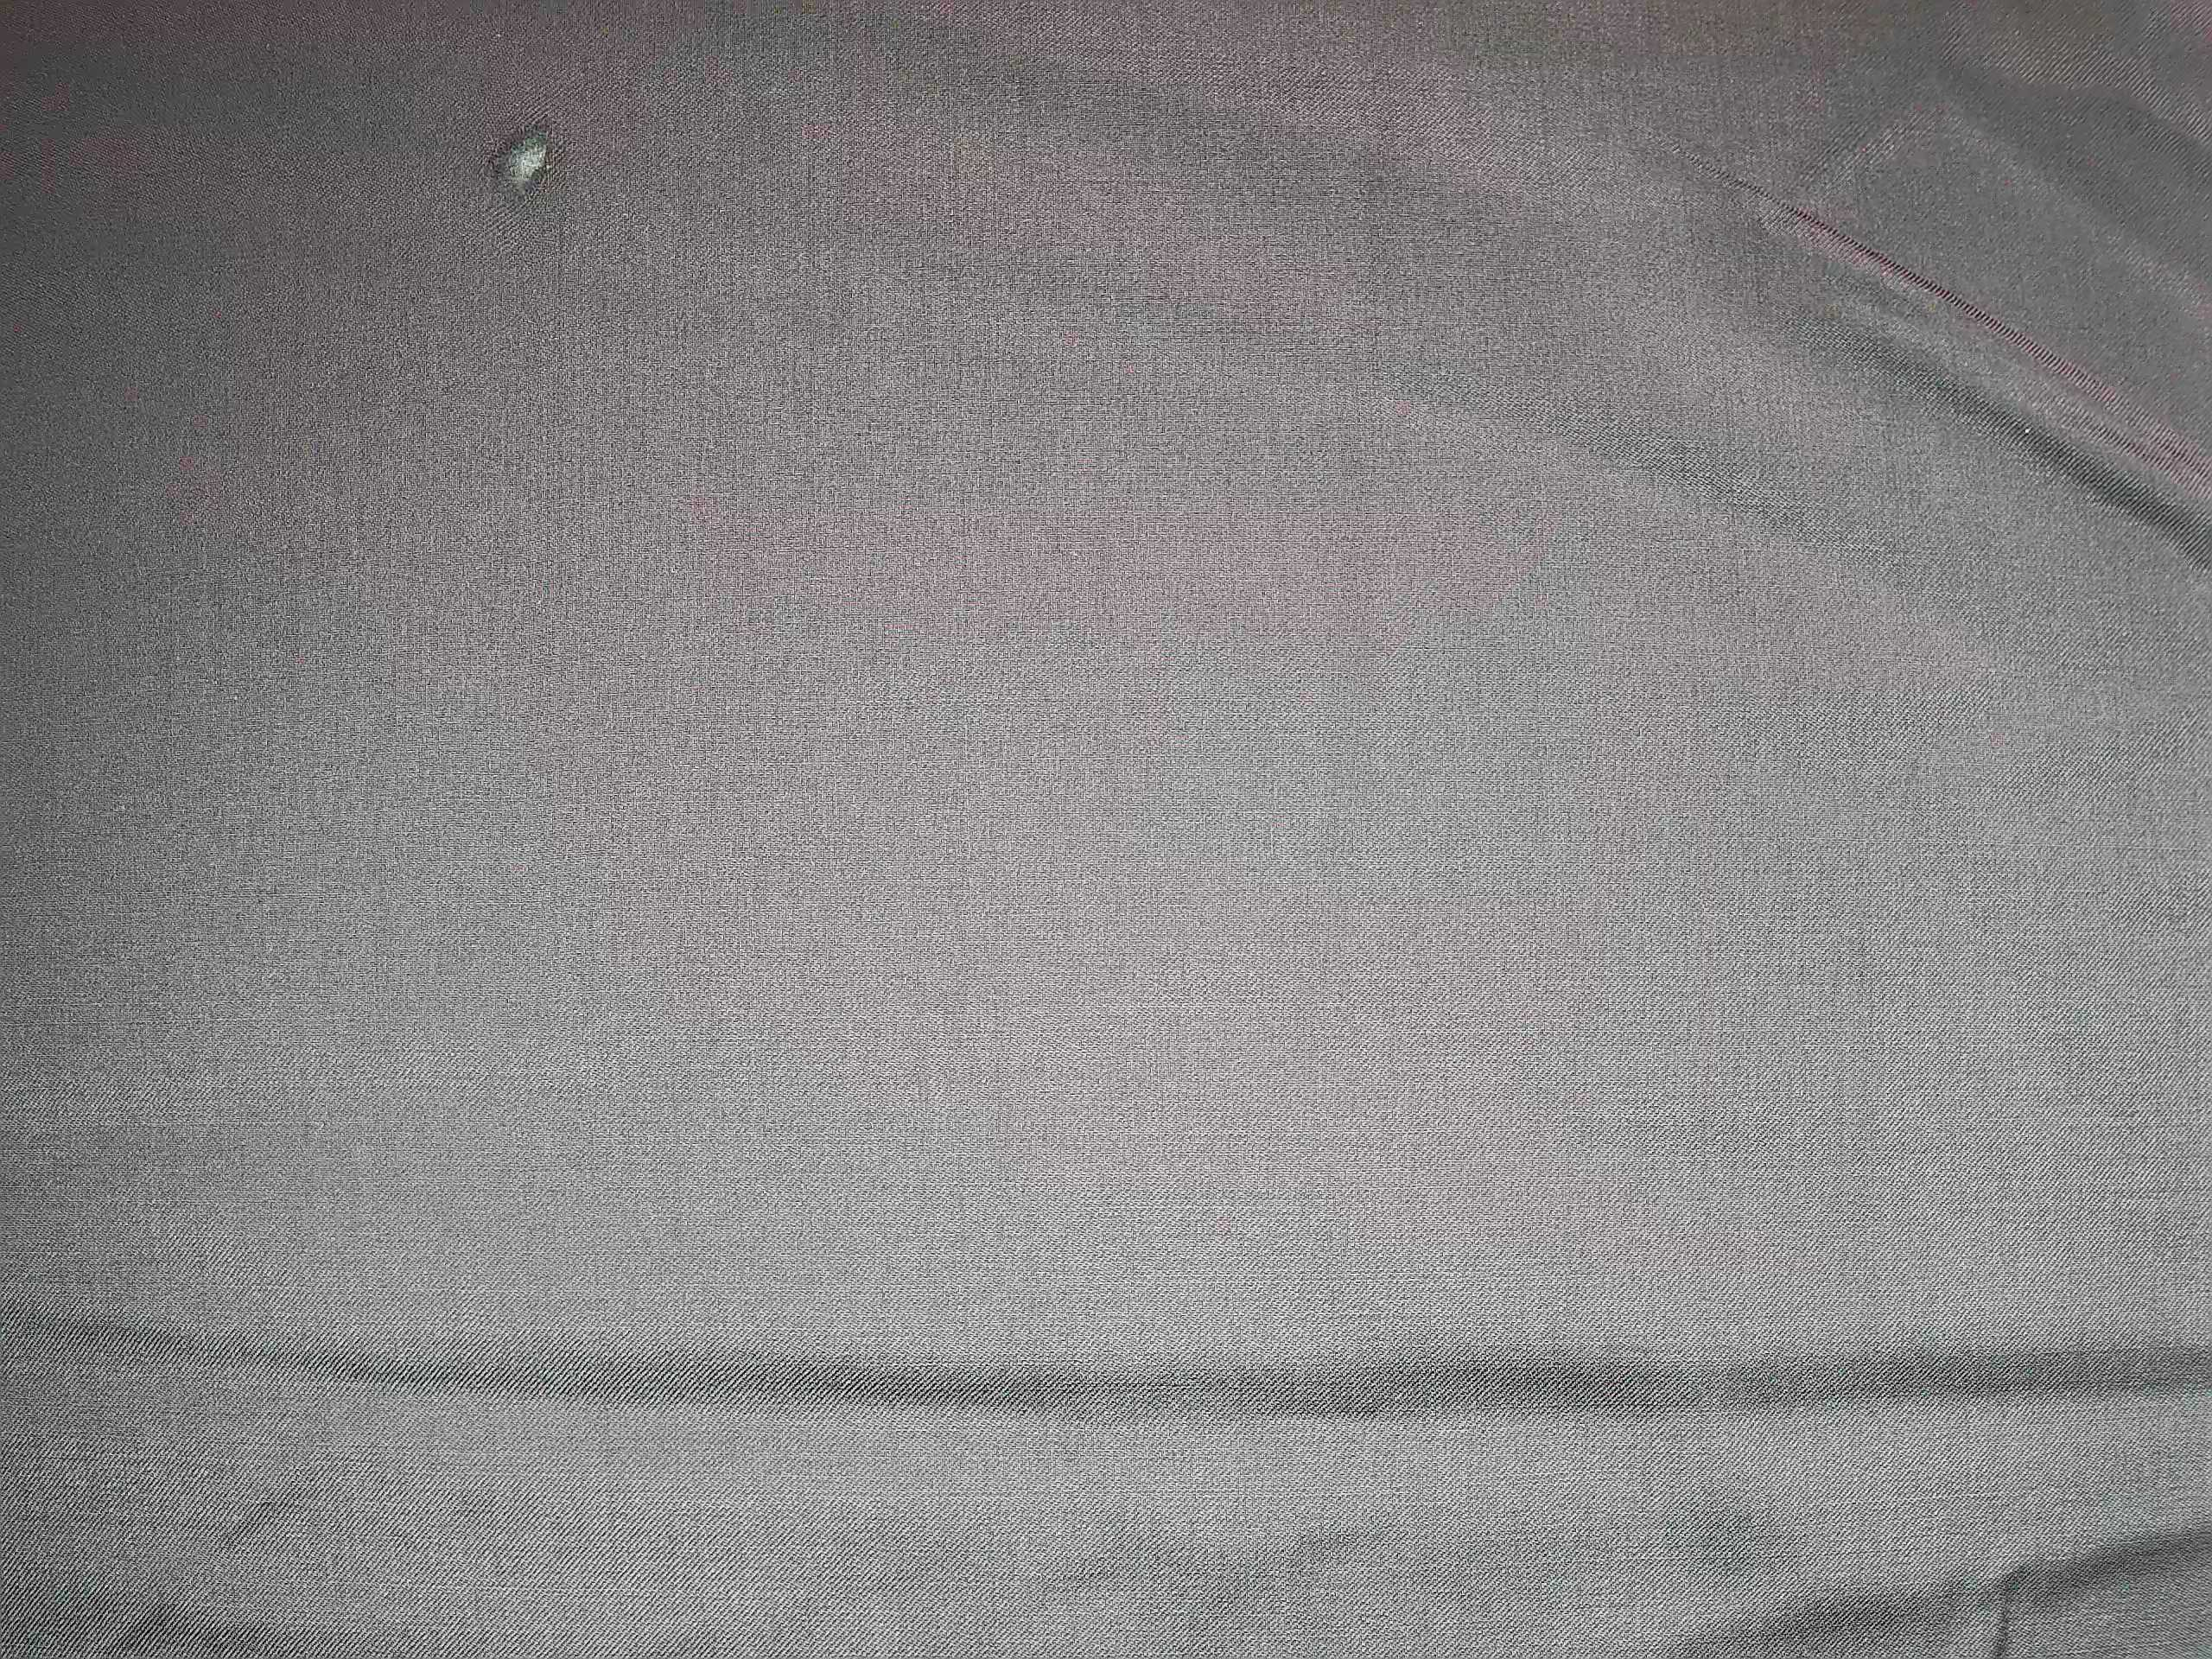rubbing-hole: (469, 103, 577, 216)
